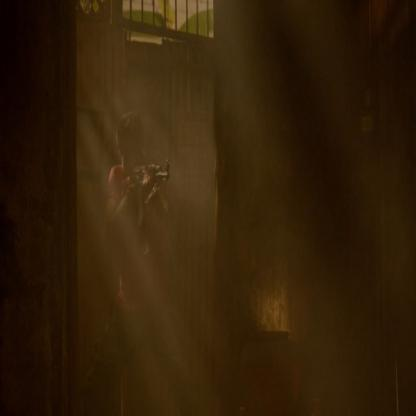Guns: (116, 157, 172, 234)
